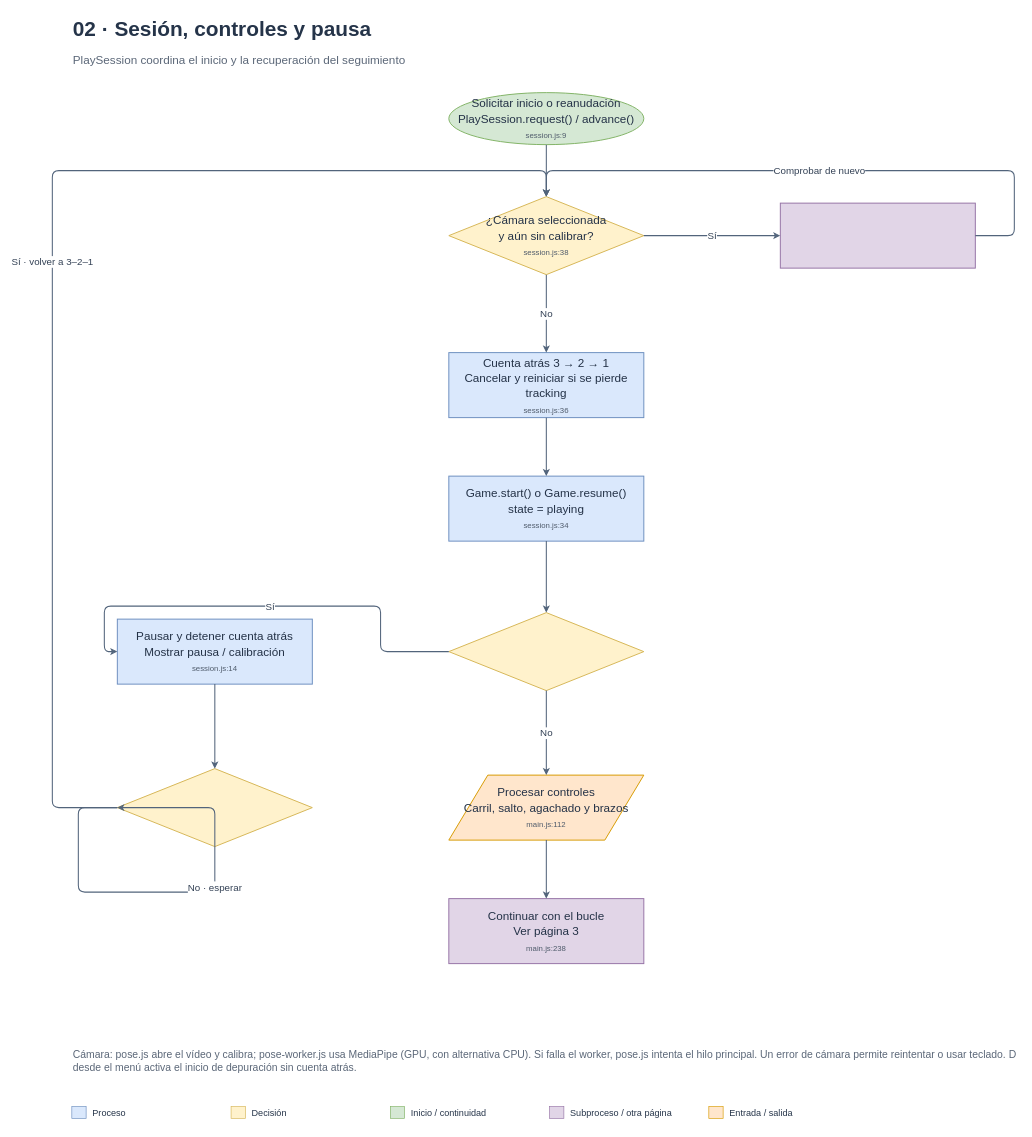
The diagram is 1032 pixels wide and 1137 high, and some of its shapes have lost their labels. The centre of each missing label's shape, as x and y in pixels:
"Esperar cuerpo visible y quieto PoseController.calibrate() pose.js:369" belongs at (878,235).
"¿Pausa manual P o pérdida de seguimiento? session.js:49" belongs at (546,651).
"¿Se pulsa P para seguir o se recupera el tracking?" belongs at (215,807).
